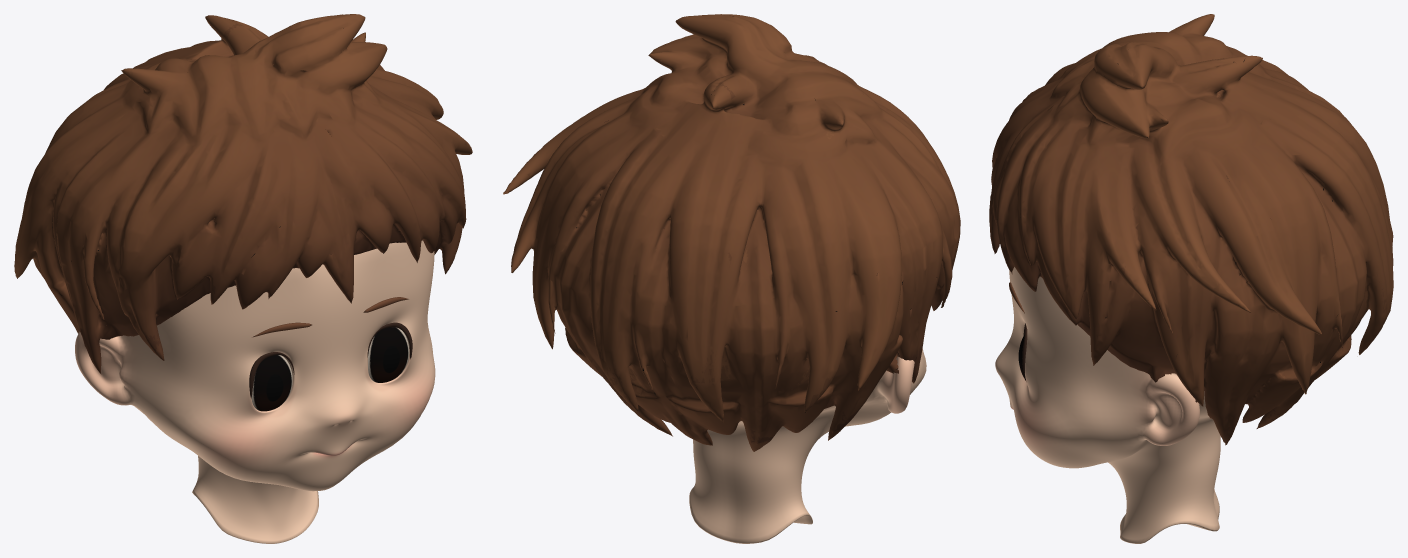
The model's file is head_candidate_v001.glb.
The picture shows the model from 3 angles, left to right: view 1: azimuth 30°, elevation 25°; view 2: azimuth 150°, elevation 25°; view 3: azimuth 270°, elevation 25°; orthographic projection. The views are drawn at different scales.
Visible parts, largest first — view 1: SCULPT_HAIR, SCULPT_HEAD, SCULPT_EYE_L, SCULPT_EYE_R, SCULPT_LASHES, SCULPT_BROWS; view 2: SCULPT_HAIR, SCULPT_HEAD; view 3: SCULPT_HAIR, SCULPT_HEAD.
Part boxes in pixels (bbox=[...]): SCULPT_HAIR: bbox=[14, 14, 472, 374]; SCULPT_HEAD: bbox=[75, 240, 435, 543]; SCULPT_EYE_L: bbox=[368, 327, 409, 382]; SCULPT_EYE_R: bbox=[251, 355, 292, 411]; SCULPT_LASHES: bbox=[249, 322, 412, 398]; SCULPT_BROWS: bbox=[252, 297, 408, 337]; SCULPT_HAIR: bbox=[503, 14, 960, 451]; SCULPT_HEAD: bbox=[689, 348, 926, 543]; SCULPT_HAIR: bbox=[989, 14, 1393, 445]; SCULPT_HEAD: bbox=[995, 267, 1220, 543].
Size of the model in its own units: 0.4451 by 0.5327 by 0.3864.
Materials: 5 (3 with a texture image).
